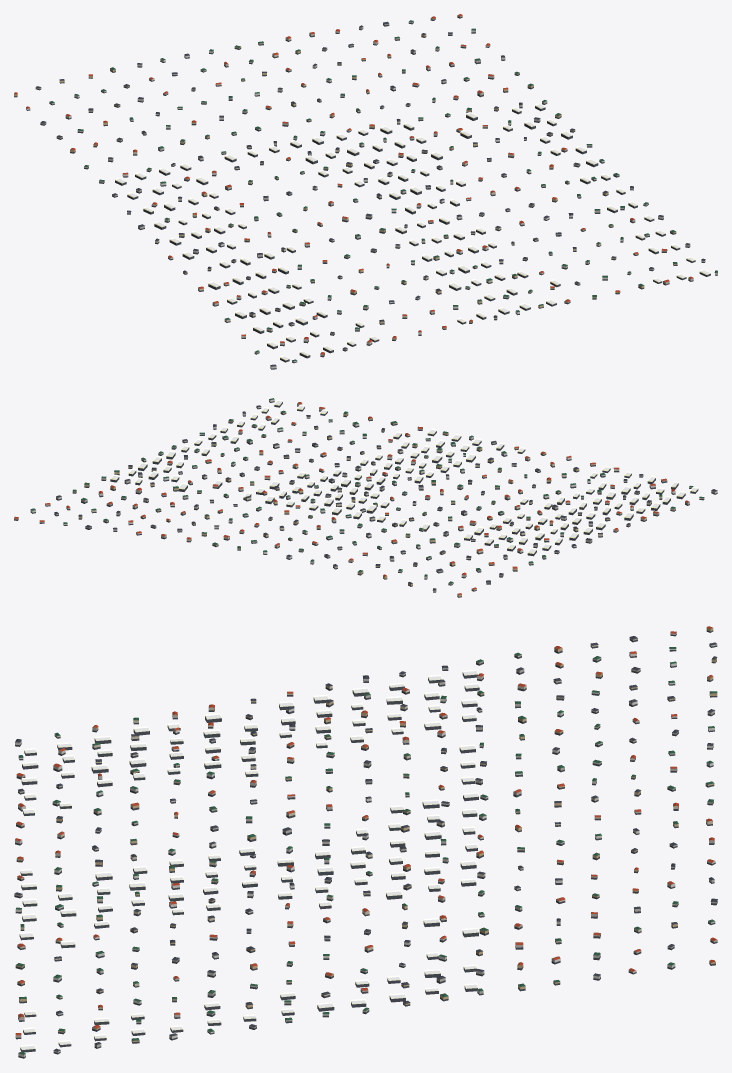
Rendered from buildings_T_E00_N05.glb.
3 renders of one model, top to bottom at view 1: azimuth 30°, elevation 25°; view 2: azimuth 150°, elevation 25°; view 3: azimuth 270°, elevation 25°, orthographic. The views are drawn at different scales.
Parts seen in each view (by area): view 1: T_E00_N05_slope_seating_foundations, T_E00_N05_roofs_agri_greenhouse_arch, T_E00_N05_roofs_roof_slate_French_villa_hip, T_E00_N05_roofs_roof_pine_green_hip, T_E00_N05_roofs_roof_terracotta_gable, T_E00_N05_walls_wall_modern_warm_white, T_E00_N05_walls_wall_french_ochre_villa, T_E00_N05_walls_wall_pastel_sand_gray, T_E00_N05_walls_wall_dalat_cream_stucco; view 2: T_E00_N05_slope_seating_foundations, T_E00_N05_roofs_agri_greenhouse_arch, T_E00_N05_roofs_roof_slate_French_villa_hip, T_E00_N05_roofs_roof_pine_green_hip, T_E00_N05_roofs_roof_terracotta_gable, T_E00_N05_walls_wall_modern_warm_white, T_E00_N05_walls_wall_pastel_sand_gray, T_E00_N05_walls_wall_french_ochre_villa, T_E00_N05_walls_wall_dalat_cream_stucco; view 3: T_E00_N05_slope_seating_foundations, T_E00_N05_roofs_agri_greenhouse_arch, T_E00_N05_roofs_roof_slate_French_villa_hip, T_E00_N05_roofs_roof_pine_green_hip, T_E00_N05_roofs_roof_terracotta_gable, T_E00_N05_walls_wall_modern_warm_white, T_E00_N05_walls_wall_french_ochre_villa, T_E00_N05_walls_wall_pastel_sand_gray, T_E00_N05_walls_wall_dalat_cream_stucco.
Boxes of the visible parts, box(x1,y1,x2,y2) form: T_E00_N05_slope_seating_foundations: box(14, 16, 717, 369); T_E00_N05_roofs_agri_greenhouse_arch: box(115, 103, 710, 360); T_E00_N05_roofs_roof_slate_French_villa_hip: box(36, 21, 705, 366); T_E00_N05_roofs_roof_pine_green_hip: box(49, 20, 717, 361); T_E00_N05_roofs_roof_terracotta_gable: box(14, 14, 693, 354); T_E00_N05_walls_wall_modern_warm_white: box(26, 21, 717, 368); T_E00_N05_walls_wall_french_ochre_villa: box(14, 15, 677, 328); T_E00_N05_walls_wall_pastel_sand_gray: box(40, 17, 693, 355); T_E00_N05_walls_wall_dalat_cream_stucco: box(57, 37, 631, 353); T_E00_N05_slope_seating_foundations: box(14, 401, 717, 597); T_E00_N05_roofs_agri_greenhouse_arch: box(110, 399, 698, 553); T_E00_N05_roofs_roof_slate_French_villa_hip: box(54, 405, 717, 590); T_E00_N05_roofs_roof_pine_green_hip: box(30, 398, 704, 583); T_E00_N05_roofs_roof_terracotta_gable: box(14, 402, 689, 594); T_E00_N05_walls_wall_modern_warm_white: box(30, 399, 717, 591); T_E00_N05_walls_wall_pastel_sand_gray: box(39, 403, 689, 583); T_E00_N05_walls_wall_french_ochre_villa: box(14, 412, 630, 596); T_E00_N05_walls_wall_dalat_cream_stucco: box(91, 420, 704, 576); T_E00_N05_slope_seating_foundations: box(14, 630, 717, 1058); T_E00_N05_roofs_agri_greenhouse_arch: box(19, 669, 479, 1049); T_E00_N05_roofs_roof_slate_French_villa_hip: box(14, 636, 717, 1051); T_E00_N05_roofs_roof_pine_green_hip: box(16, 647, 717, 1054); T_E00_N05_roofs_roof_terracotta_gable: box(15, 626, 717, 1035); T_E00_N05_walls_wall_modern_warm_white: box(15, 632, 717, 1057); T_E00_N05_walls_wall_french_ochre_villa: box(15, 627, 717, 1041); T_E00_N05_walls_wall_pastel_sand_gray: box(15, 638, 717, 1047); T_E00_N05_walls_wall_dalat_cream_stucco: box(14, 644, 713, 1012).
Bounding box in the file's own units: 1688 × 370 × 1687.
